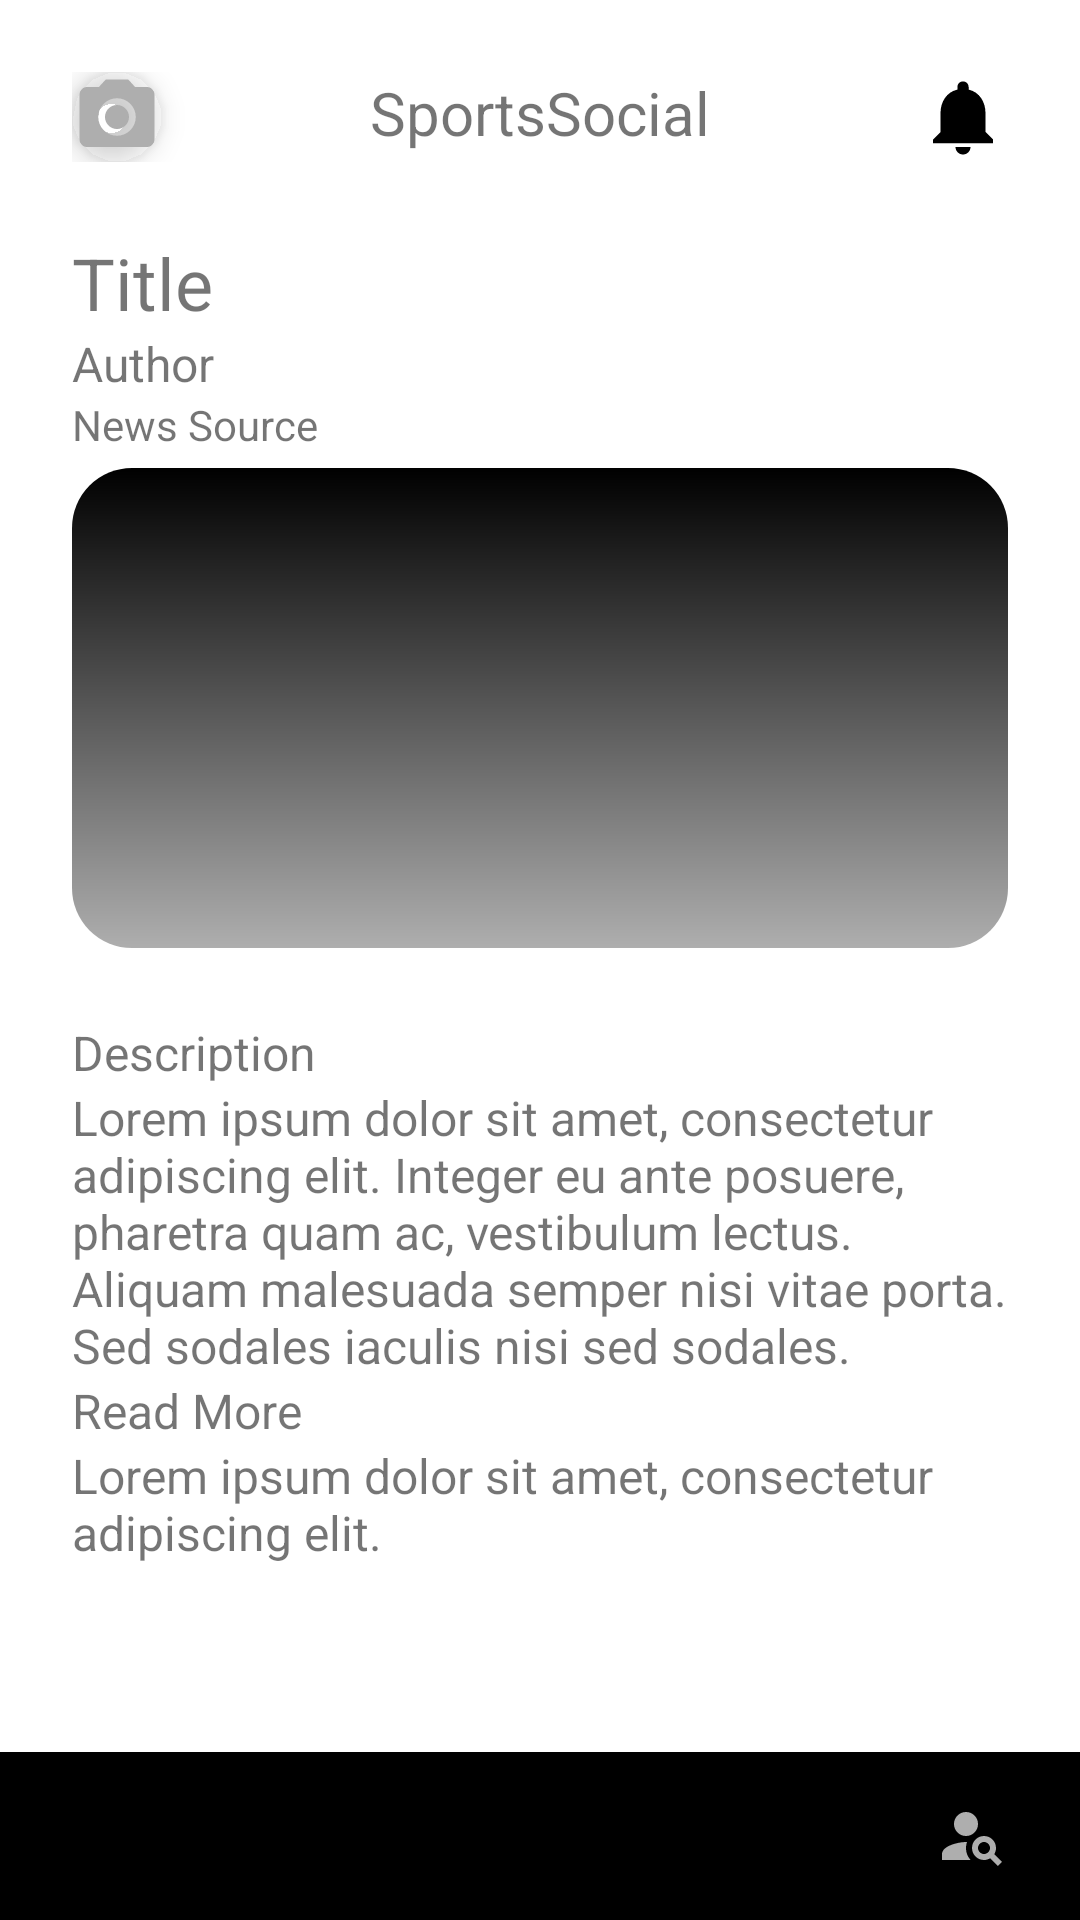

Screen size 1080*1920. Icon name, then its center in pixels as (x,y):
notifications: (963,118)
photo camera: (113,117)
